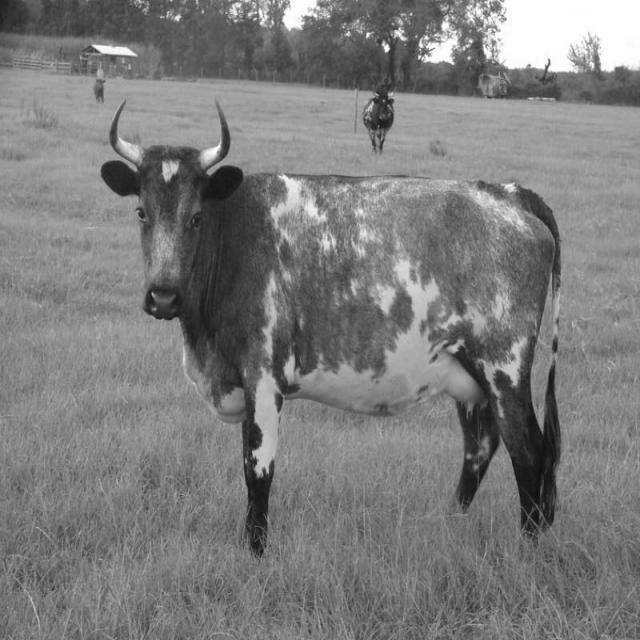cow: (101, 101, 560, 553)
